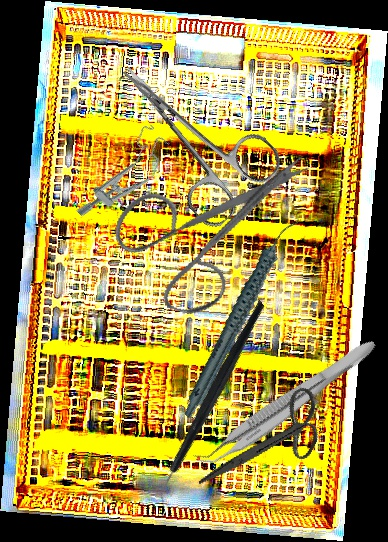Chopper: (102, 299, 324, 512)
Handpiece: (147, 216, 334, 420)
Iris Scissors: (97, 109, 314, 336), (90, 31, 289, 234), (198, 364, 336, 522)
Speculum: (70, 121, 178, 234)
Tissue Forceps: (192, 327, 380, 478)
